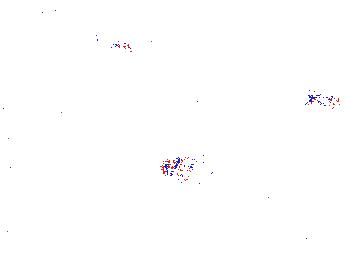X-ray fish: (162, 155, 218, 186)
red belly glassfish: (89, 34, 135, 55), (306, 91, 341, 109)
